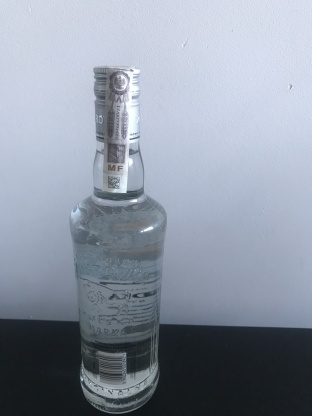nakretka: (90, 60, 144, 146)
